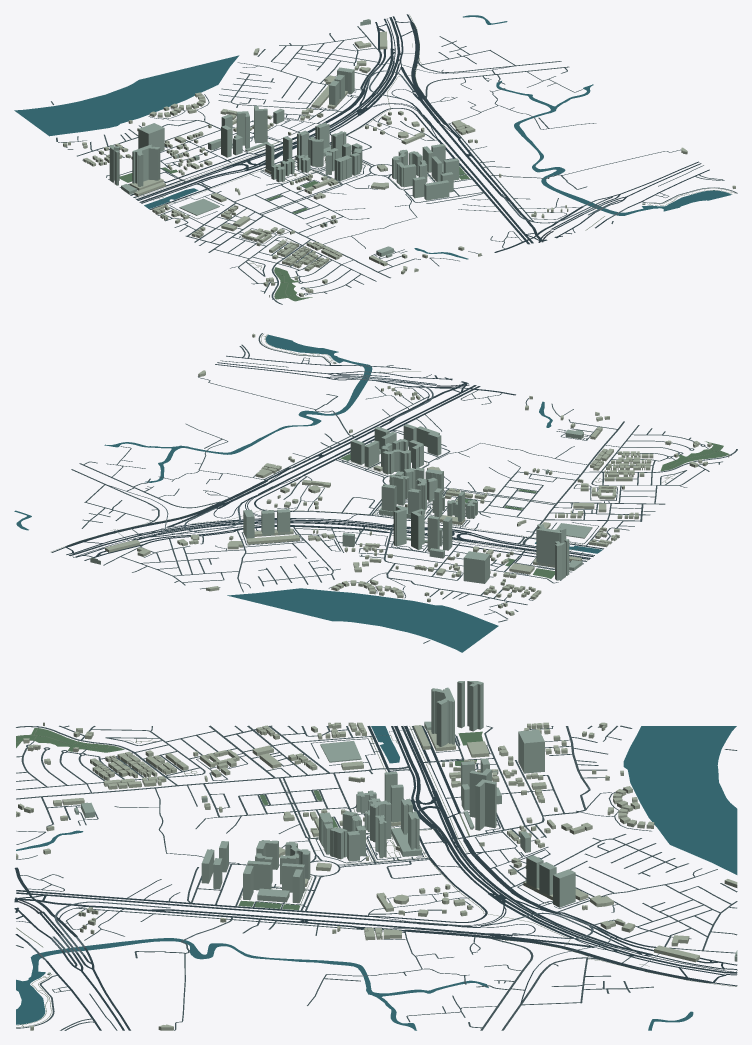
3 views of the same model, one above another, from view 1: azimuth 30°, elevation 25°; view 2: azimuth 150°, elevation 25°; view 3: azimuth 270°, elevation 25° (orthographic). The views are drawn at different scales.
Parts seen in each view (by area): view 1: building-tagged, street, water, building, major, green, path, bridge; view 2: building-tagged, street, water, building, major, green, path, bridge; view 3: building-tagged, street, water, major, building, green, path, bridge.
Boxes of the visible parts, left/top/right/bottom form: building-tagged: left=109, top=19, right=645, bottom=257; street: left=51, top=26, right=737, bottom=304; water: left=14, top=15, right=731, bottom=259; building: left=63, top=31, right=735, bottom=297; major: left=130, top=14, right=709, bottom=252; green: left=119, top=166, right=469, bottom=301; path: left=132, top=14, right=735, bottom=300; bridge: left=141, top=63, right=627, bottom=223; building-tagged: left=90, top=362, right=592, bottom=583; street: left=71, top=333, right=737, bottom=643; water: left=14, top=334, right=602, bottom=652; building: left=105, top=333, right=729, bottom=615; major: left=51, top=355, right=603, bottom=564; green: left=340, top=441, right=729, bottom=578; path: left=51, top=334, right=727, bottom=560; bridge: left=114, top=365, right=584, bottom=587; building-tagged: left=47, top=681, right=737, bottom=975; street: left=16, top=725, right=737, bottom=1030; water: left=16, top=726, right=737, bottom=1030; major: left=14, top=725, right=737, bottom=1030; building: left=16, top=722, right=737, bottom=1030; green: left=16, top=728, right=482, bottom=909; path: left=16, top=726, right=736, bottom=1027; bridge: left=27, top=728, right=661, bottom=976.
Bounding box in the file's own units: 2004 × 146 × 2008.
